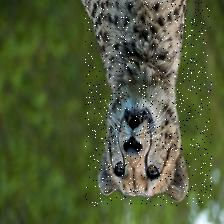Cheetha: (85, 0, 212, 206)
